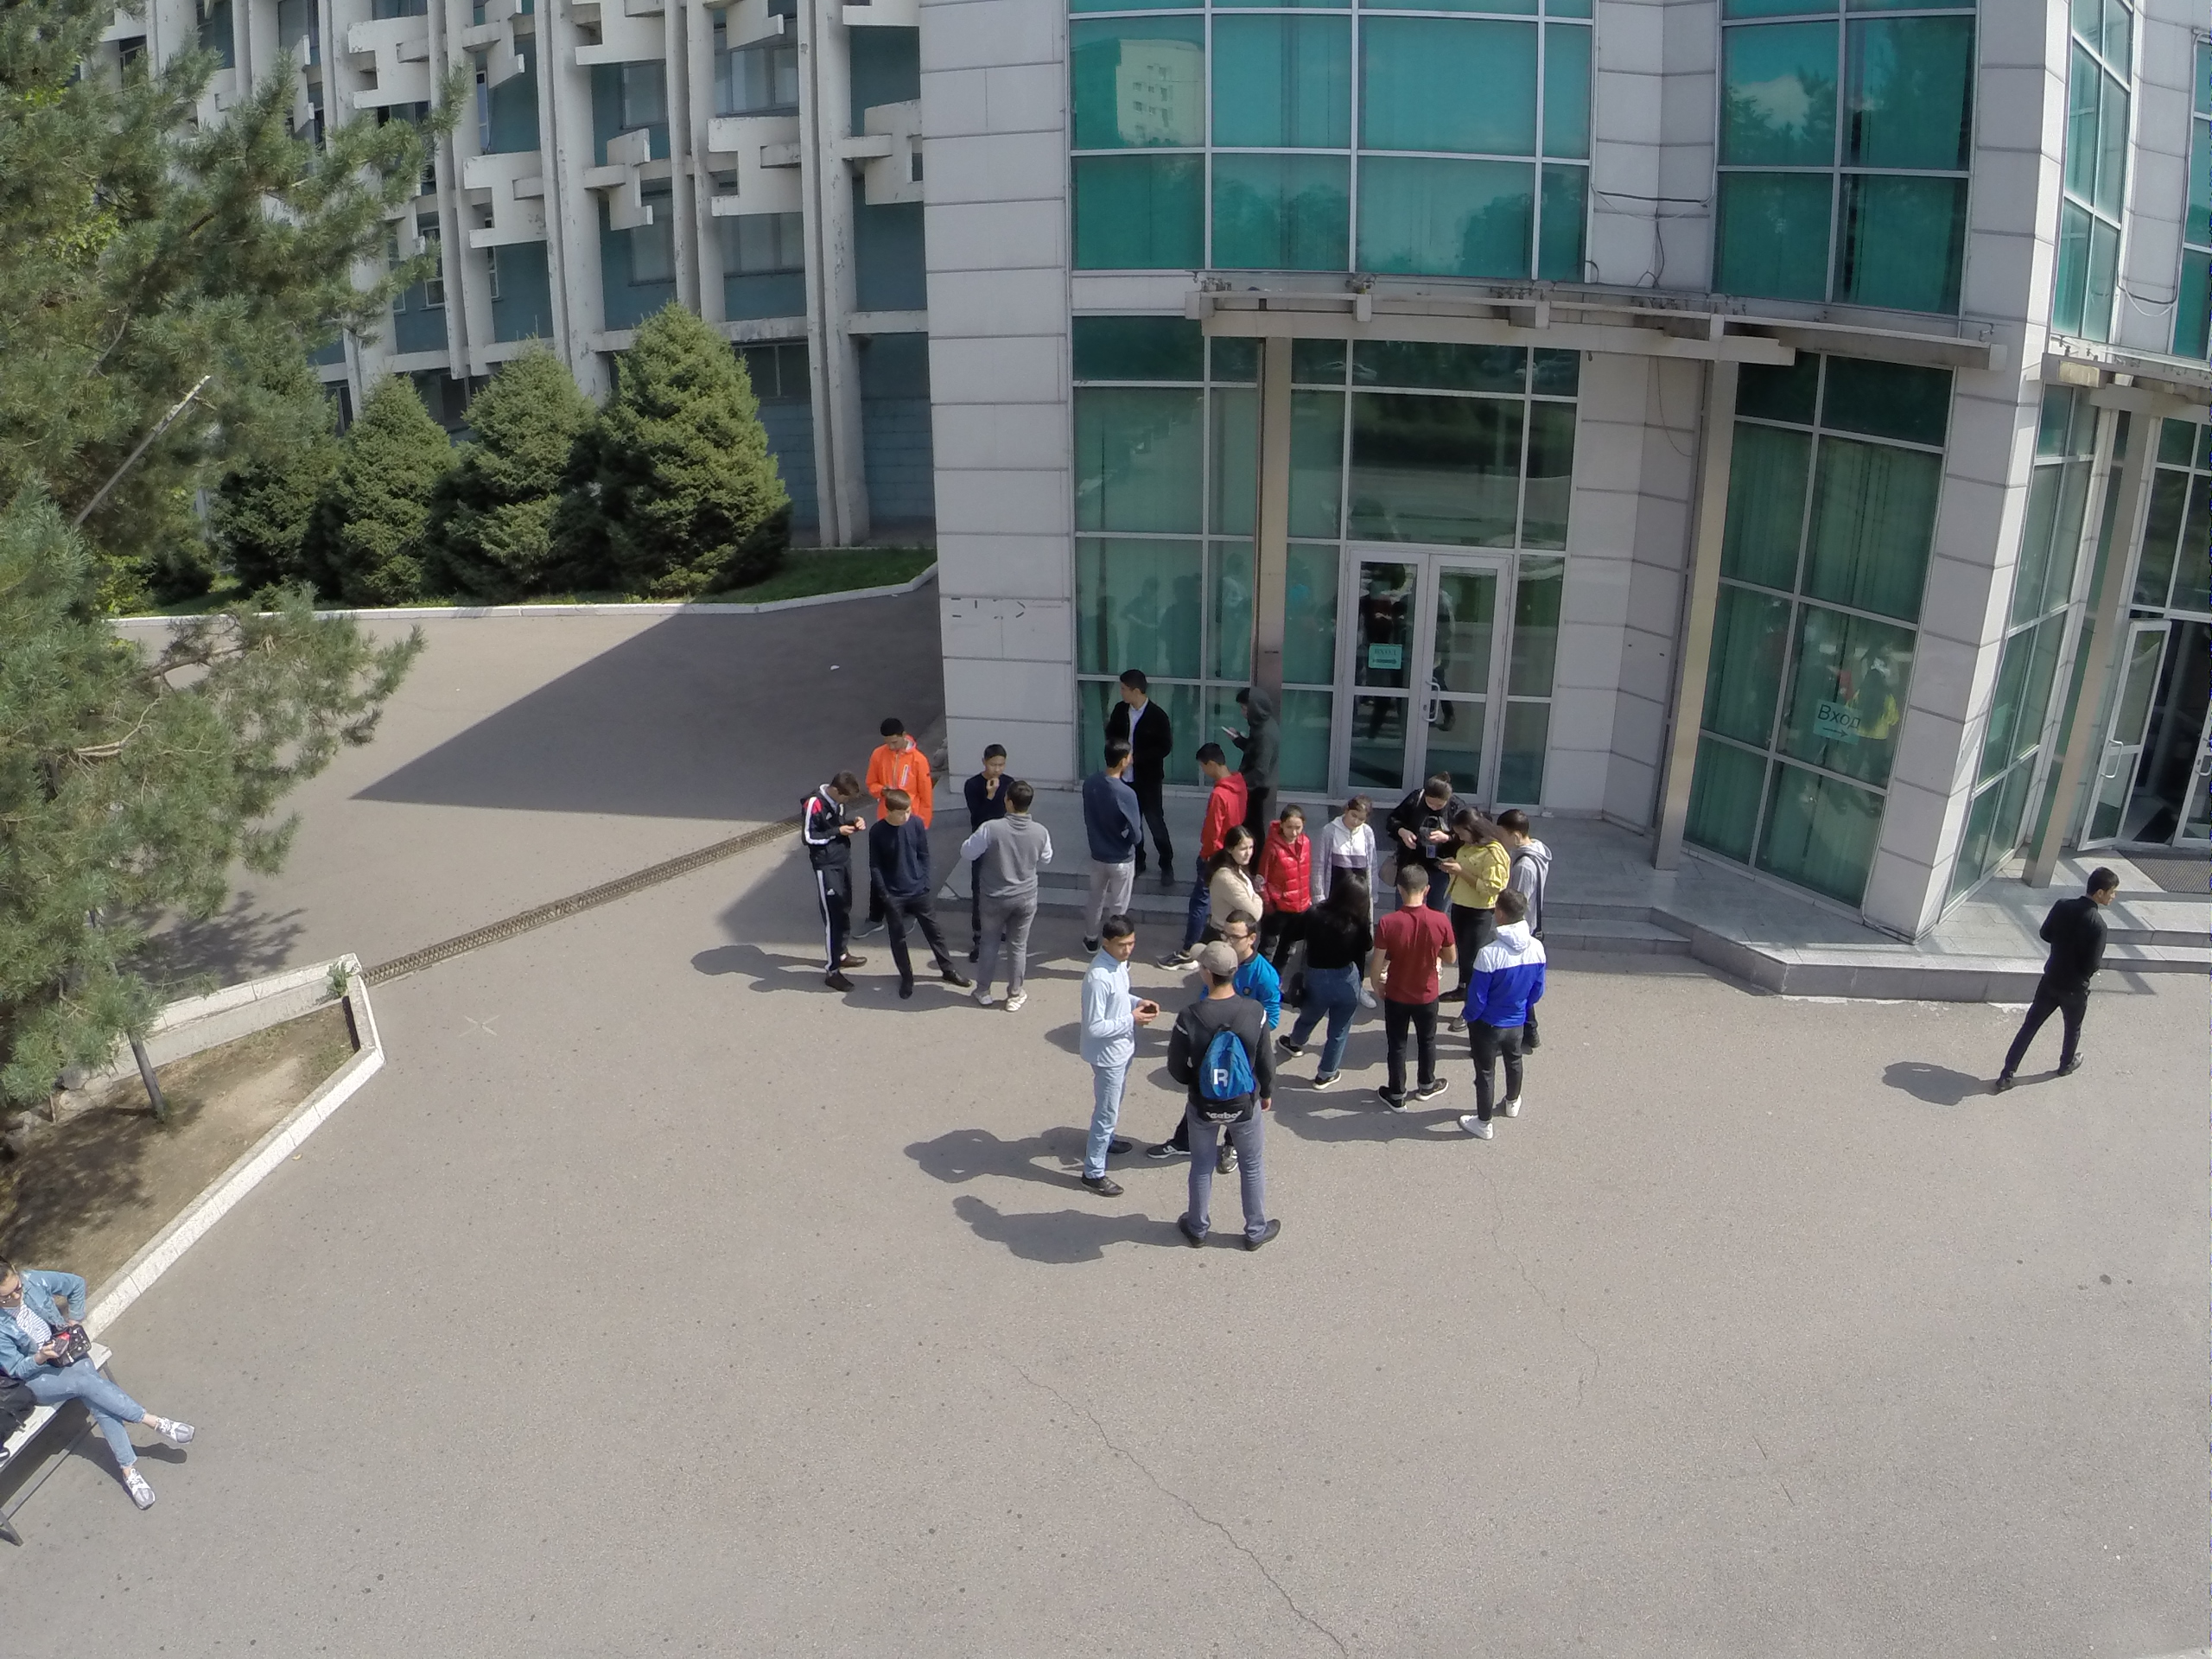person: (1, 1257, 199, 1517), (1978, 863, 2126, 1105), (1162, 945, 1276, 1252), (964, 779, 1052, 1020), (1465, 894, 1548, 1142), (869, 786, 960, 1007), (1389, 863, 1454, 1125), (1080, 916, 1135, 1205), (1289, 870, 1359, 1096), (804, 767, 864, 998), (1083, 736, 1147, 914), (1196, 822, 1268, 938), (1258, 804, 1318, 913), (1390, 772, 1462, 863), (1449, 808, 1500, 932), (1224, 680, 1282, 774), (1508, 805, 1560, 912), (1191, 743, 1257, 824), (1325, 797, 1375, 897), (1123, 671, 1169, 774), (869, 721, 925, 796), (968, 739, 1010, 818), (1224, 911, 1267, 976)
